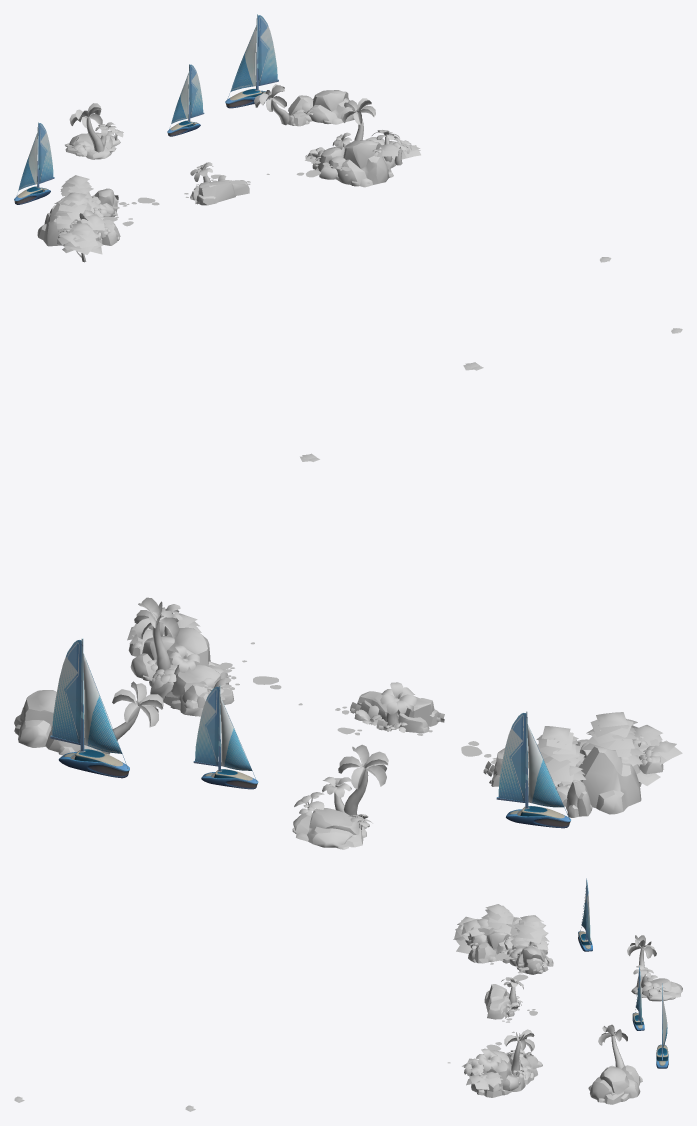
Rendered from pref_Area02_Bottom_Beach_Small_lv3.fbx.
3 views of the same model, one above another, from view 1: azimuth 30°, elevation 25°; view 2: azimuth 150°, elevation 25°; view 3: azimuth 270°, elevation 25° (orthographic). The views are drawn at different scales.
Parts seen in each view (by area): view 1: pref_sm_beach_sailboat02_lv3 (×3), pref_sm_beach_techrock01_lv3 (×4), pref_sm_beach_techgtree06a_lv3 (×3), pref_sm_beach_techctree01_lv3 (×3), pref_sm_beach_techblockstone03_lv3, pref_sm_beach_techrock03_lv3; view 2: pref_sm_beach_sailboat02_lv3 (×3), pref_sm_beach_techrock01_lv3 (×5), pref_sm_beach_techctree01_lv3 (×3), pref_sm_beach_techgtree06a_lv3 (×3), pref_sm_beach_techrock03_lv3 (×2), pref_sm_beach_techctree04_a_lv3; view 3: pref_sm_beach_techrock01_lv3 (×6), pref_sm_beach_techgtree06a_lv3 (×3), pref_sm_beach_techctree01_lv3 (×3), pref_sm_beach_sailboat02_lv3 (×3), pref_sm_beach_techrock03_lv3, pref_sm_beach_techblockstone02_lv3, pref_sm_beach_techctree04_a_lv3.
Part boxes in pixels (x1,y1,x2,y2): pref_sm_beach_sailboat02_lv3 (×3): (14,14,278,204); pref_sm_beach_techrock01_lv3 (×4): (65,90,393,187); pref_sm_beach_techgtree06a_lv3 (×3): (54,175,103,262); pref_sm_beach_techctree01_lv3 (×3): (69,84,375,152); pref_sm_beach_techblockstone03_lv3: (196,181,235,205); pref_sm_beach_techrock03_lv3: (37,200,63,246); pref_sm_beach_sailboat02_lv3 (×3): (50,638,570,828); pref_sm_beach_techrock01_lv3 (×5): (14,627,367,849); pref_sm_beach_techctree01_lv3 (×3): (101,597,388,817); pref_sm_beach_techgtree06a_lv3 (×3): (536,712,663,786); pref_sm_beach_techrock03_lv3 (×2): (566,745,641,817); pref_sm_beach_techctree04_a_lv3: (380,682,416,729); pref_sm_beach_techrock01_lv3 (×6): (465,918,682,1104); pref_sm_beach_techgtree06a_lv3 (×3): (453,904,549,953); pref_sm_beach_techctree01_lv3 (×3): (504,935,656,1077); pref_sm_beach_sailboat02_lv3 (×3): (578,878,668,1068); pref_sm_beach_techrock03_lv3: (468,942,497,963); pref_sm_beach_techblockstone02_lv3: (487,996,511,1019); pref_sm_beach_techctree04_a_lv3: (476,1048,501,1075).
Bounding box in the file's own units: 46.95 × 11.81 × 71.43.
